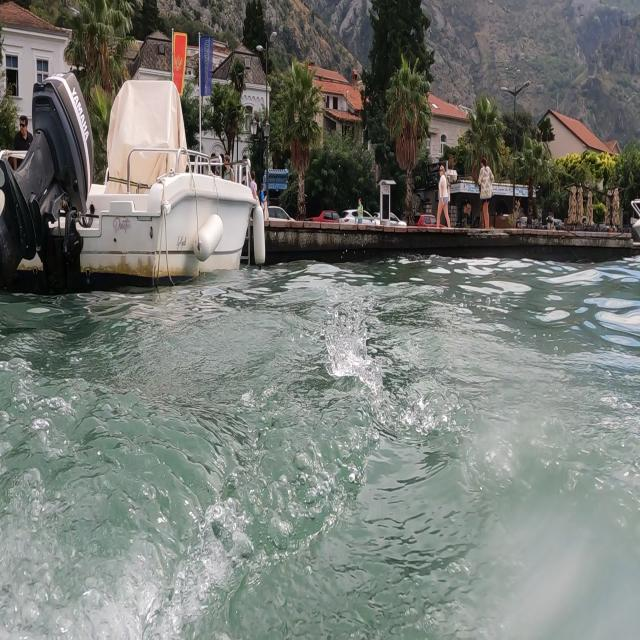boat: (2, 68, 264, 294)
